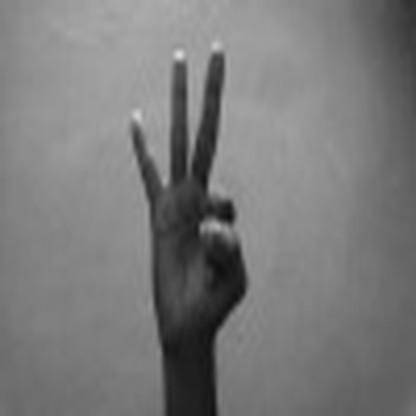f: (123, 35, 252, 335)
